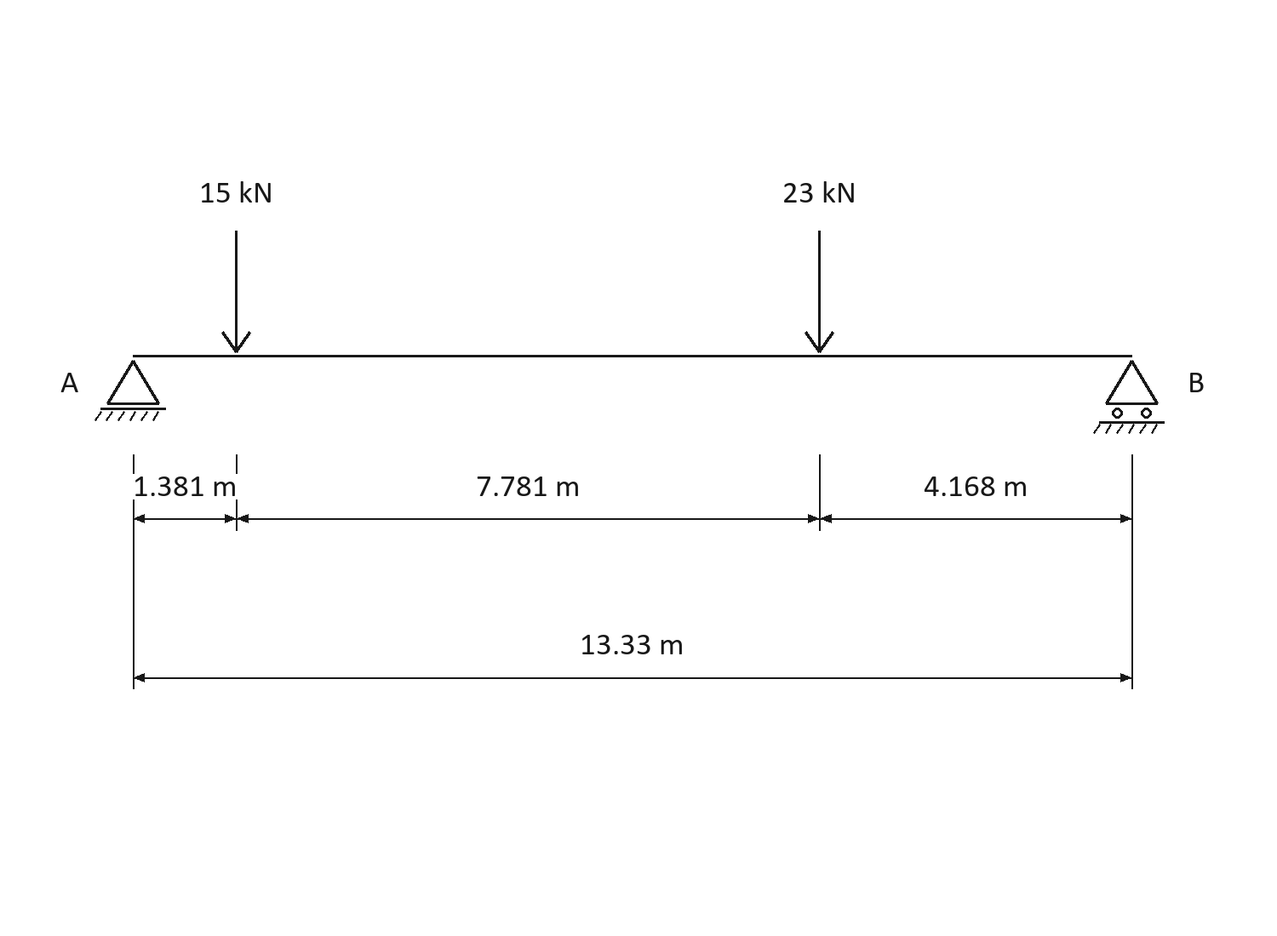pin_support: (94, 360, 166, 421)
point_load: (221, 231, 251, 353), (805, 231, 834, 353)
roller_support: (1093, 360, 1165, 434)
